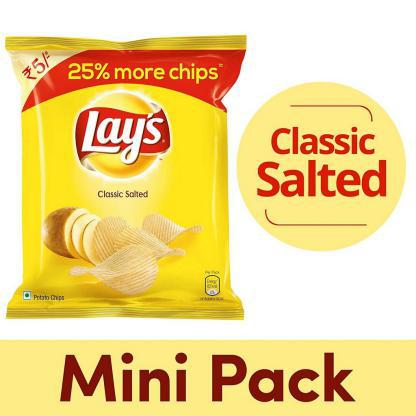classicsalted: (4, 34, 247, 321)
